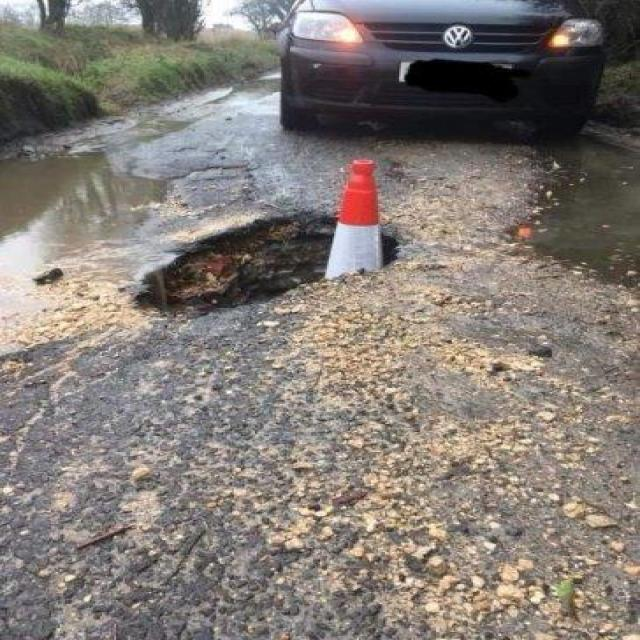lubang: (3, 137, 193, 316), (144, 204, 390, 328), (149, 153, 262, 213)
